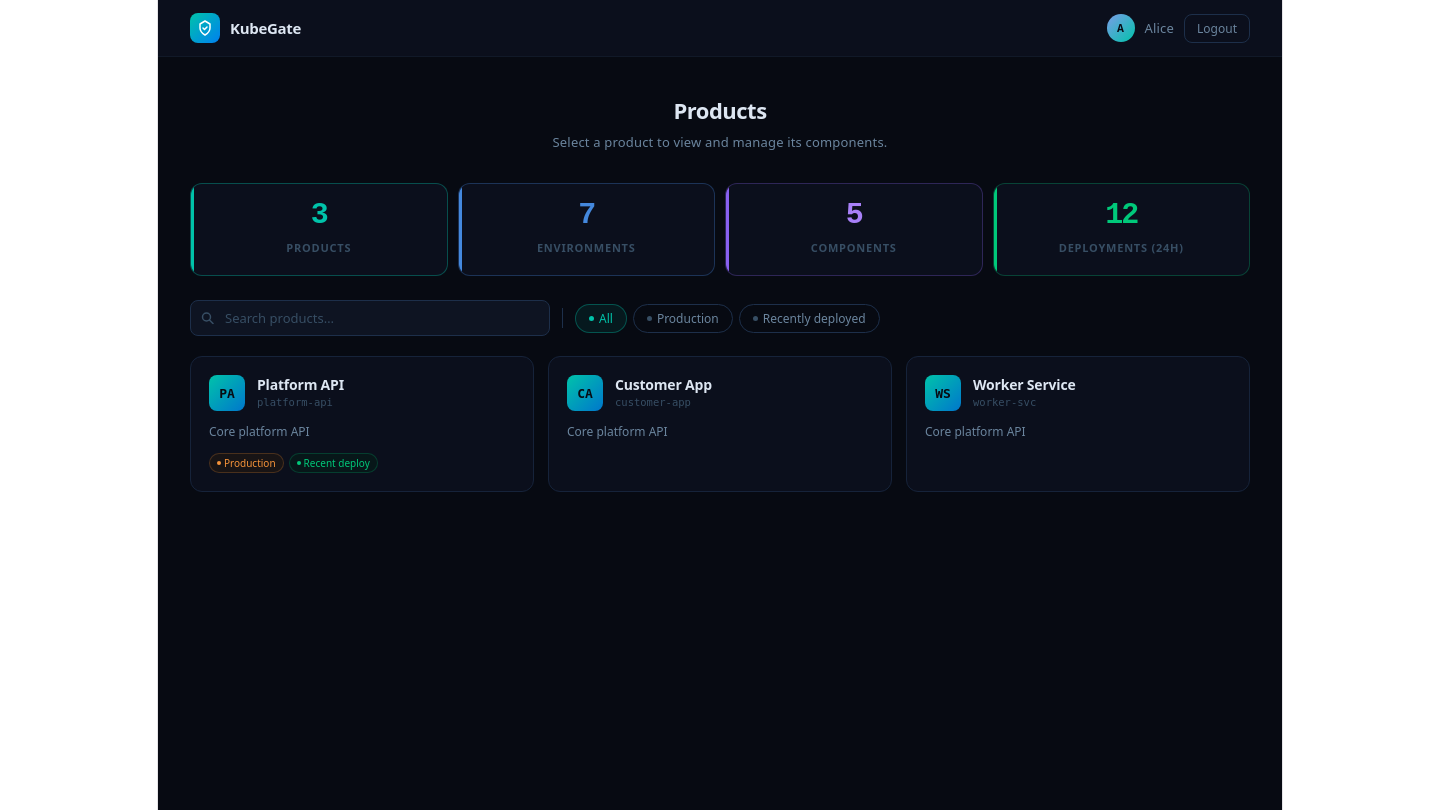
it: Search and filter › filters by name with case-insensitive substring match
The width and height of the screenshot is (1440, 810).
Type "platform" into the field with test id "search-input" at (370, 318), box [190, 300, 550, 336]
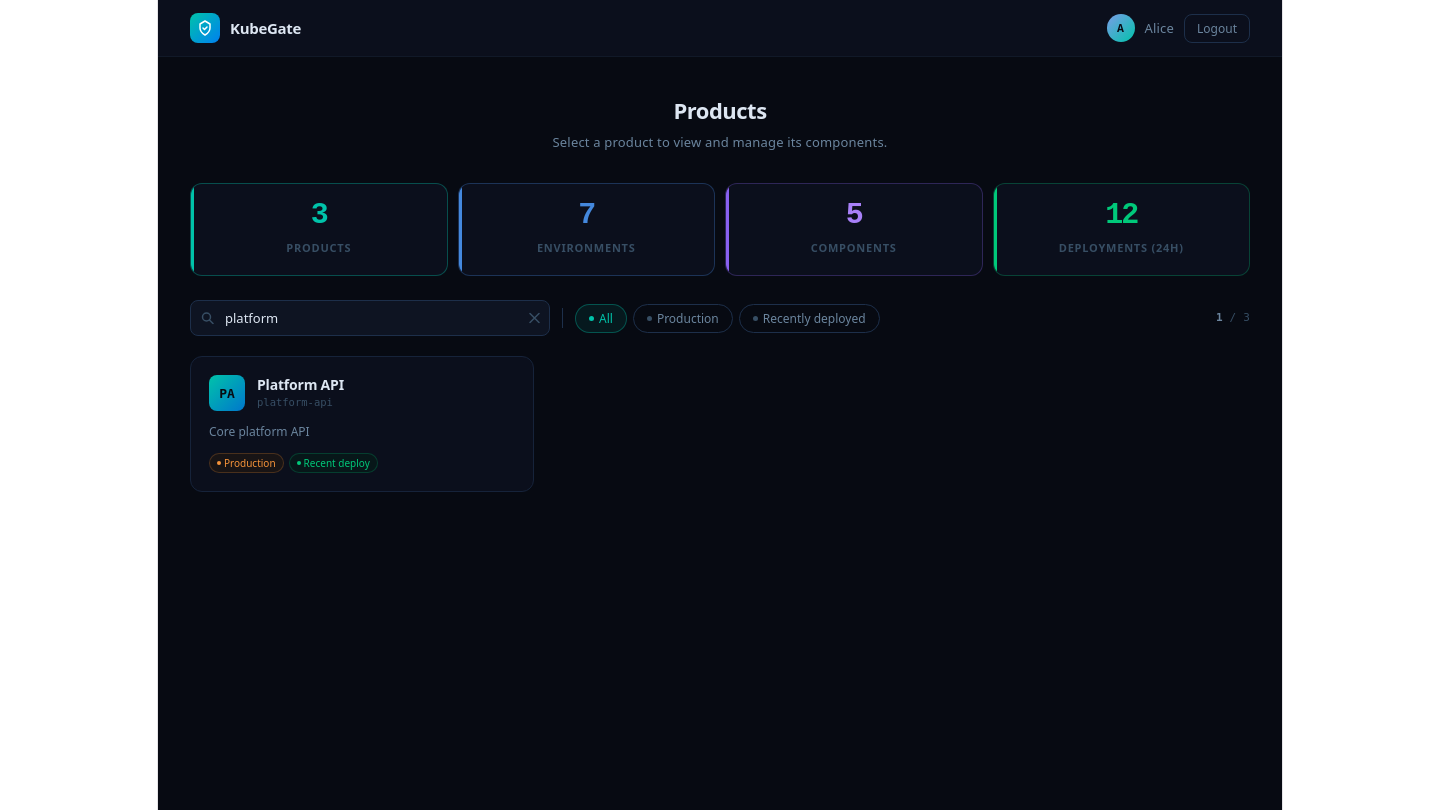
Expected: the text "Platform API" is shown, [257, 375, 344, 394]
Now the button "Customer App" is gone
Now the button "Worker Service" is gone
